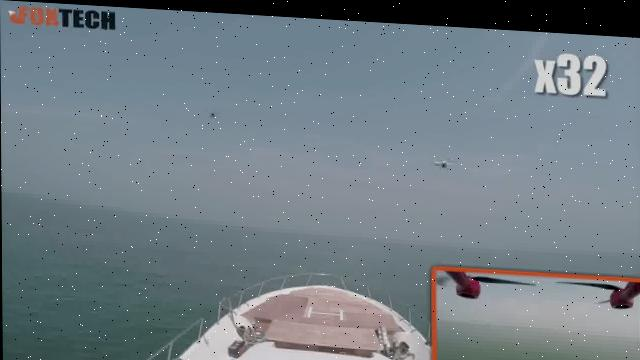drone: (428, 141, 465, 168), (204, 98, 226, 120)
